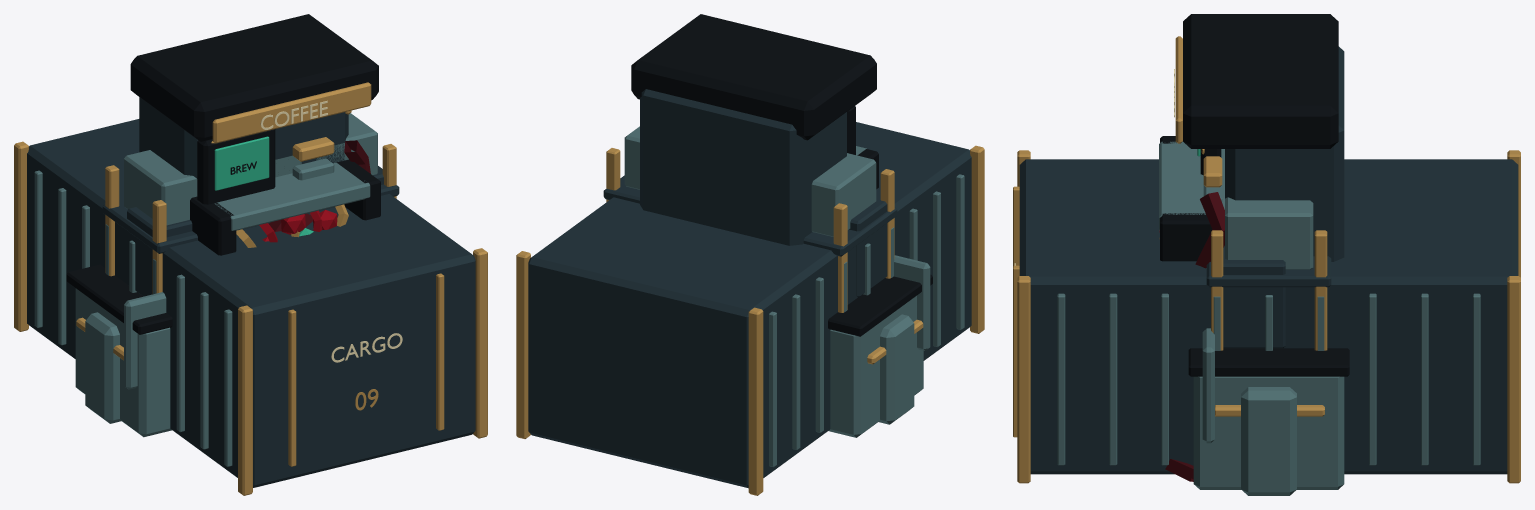
The model's file is Zombilka_ArenaKit.fbx.
The picture shows the model from 3 angles, left to right: view 1: azimuth 30°, elevation 25°; view 2: azimuth 150°, elevation 25°; view 3: azimuth 270°, elevation 25°; orthographic projection. The views are drawn at different scales.
Visible parts, largest first — view 1: ArenaContainer, CoffeeSpawner_Export, ArenaLabBank, ArenaRack, ArenaBarrier, ArenaDeskBank; view 2: ArenaContainer, CoffeeSpawner_Export, ArenaLabBank, ArenaRack, ArenaBarrier, ArenaDeskBank; view 3: ArenaContainer, CoffeeSpawner_Export, ArenaLabBank, ArenaRack, ArenaBarrier, ArenaDeskBank.
Part boxes in pixels (x1=…): ArenaContainer: x1=14, y1=119, x2=487, y2=495; CoffeeSpawner_Export: x1=130, y1=14, x2=380, y2=255; ArenaLabBank: x1=66, y1=166, x2=383, y2=437; ArenaRack: x1=102, y1=113, x2=399, y2=293; ArenaBarrier: x1=85, y1=312, x2=121, y2=423; ArenaDeskBank: x1=76, y1=292, x2=166, y2=389; ArenaContainer: x1=516, y1=122, x2=984, y2=495; CoffeeSpawner_Export: x1=631, y1=14, x2=878, y2=245; ArenaLabBank: x1=828, y1=198, x2=932, y2=437; ArenaRack: x1=603, y1=126, x2=897, y2=312; ArenaBarrier: x1=879, y1=314, x2=914, y2=424; ArenaDeskBank: x1=867, y1=255, x2=930, y2=364; ArenaContainer: x1=1013, y1=150, x2=1520, y2=483; CoffeeSpawner_Export: x1=1159, y1=14, x2=1344, y2=481; ArenaLabBank: x1=1188, y1=245, x2=1349, y2=489; ArenaRack: x1=1206, y1=197, x2=1331, y2=350; ArenaBarrier: x1=1241, y1=387, x2=1296, y2=495; ArenaDeskBank: x1=1202, y1=328, x2=1324, y2=443.
Bounding box in the file's own units: 380 × 383 × 489.
2 materials, 2 textured.
